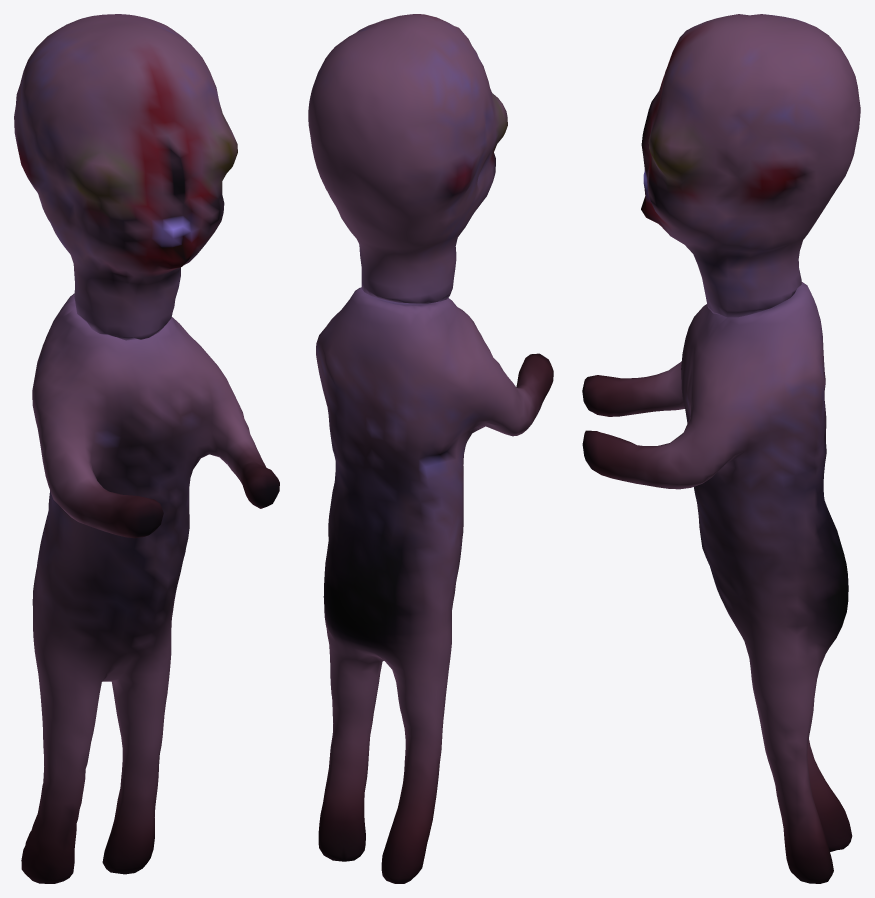
The model's file is SCP-173.fbx.
3 views of the same model, side by side, from view 1: azimuth 30°, elevation 25°; view 2: azimuth 150°, elevation 25°; view 3: azimuth 270°, elevation 25° (orthographic). The views are drawn at different scales.
Parts seen in each view (by area): view 1: PM3D_Skin_ZSphere_4; view 2: PM3D_Skin_ZSphere_4; view 3: PM3D_Skin_ZSphere_4.
Part boxes in pixels (x1,y1,x2,y2): PM3D_Skin_ZSphere_4: [14, 14, 279, 883]; PM3D_Skin_ZSphere_4: [308, 14, 553, 883]; PM3D_Skin_ZSphere_4: [582, 14, 860, 883].
Size of the model in its own units: 1.17 by 4.96 by 1.49.
